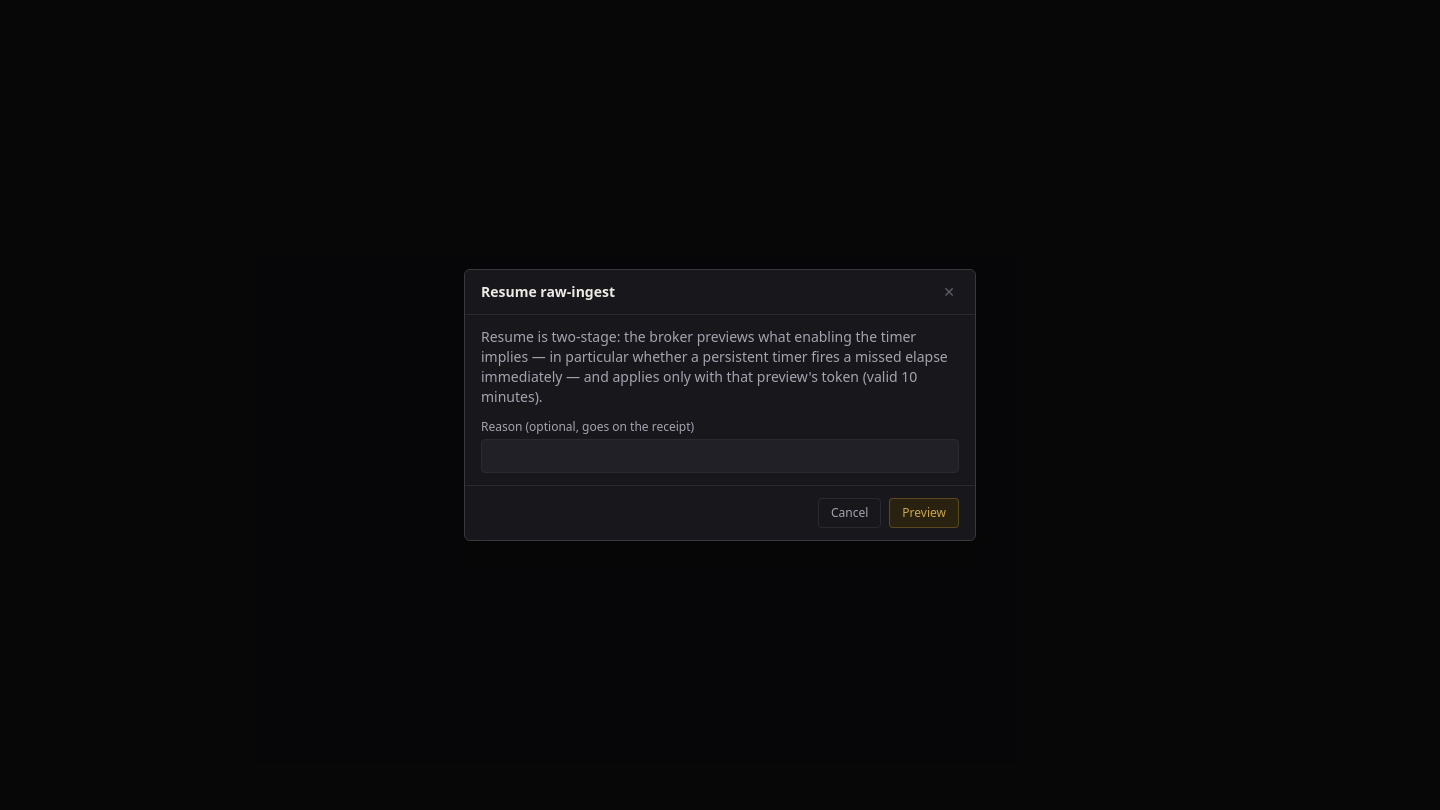
Scenario: ResumeDialog › shows the implication before Apply and applies with the preview token
Expected: the button "apply" is not shown
Click the button "Preview".
click(924, 513)  # box [889,498,959,528]
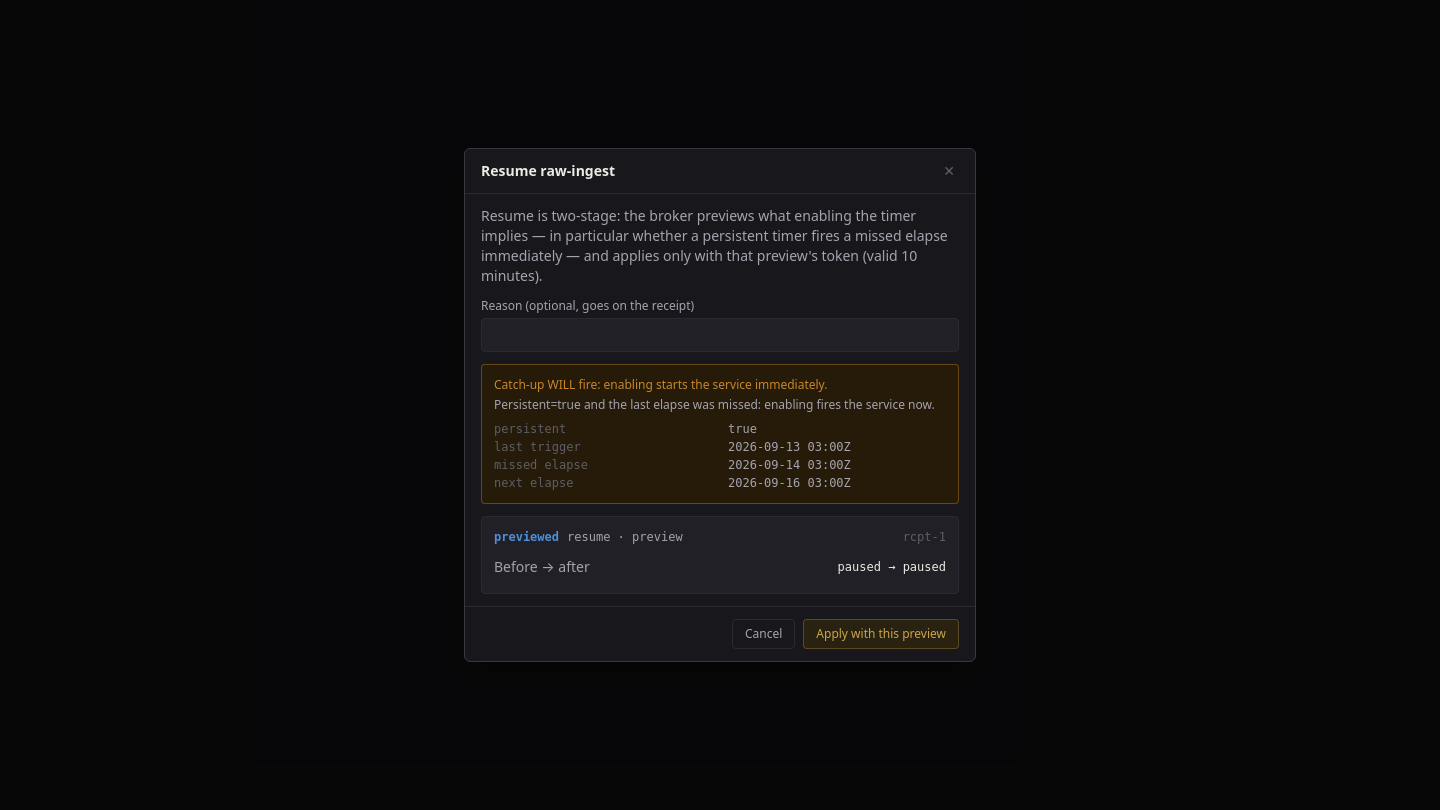
Result: the element with test id "implication" shows "Catch-up WILL fire" at [494,376,828,393]
Result: the element with test id "implication" shows "enabling fires the service now" at [494,396,935,413]
Click the button "Apply with this preview".
click(881, 634)  # box [803,619,959,649]
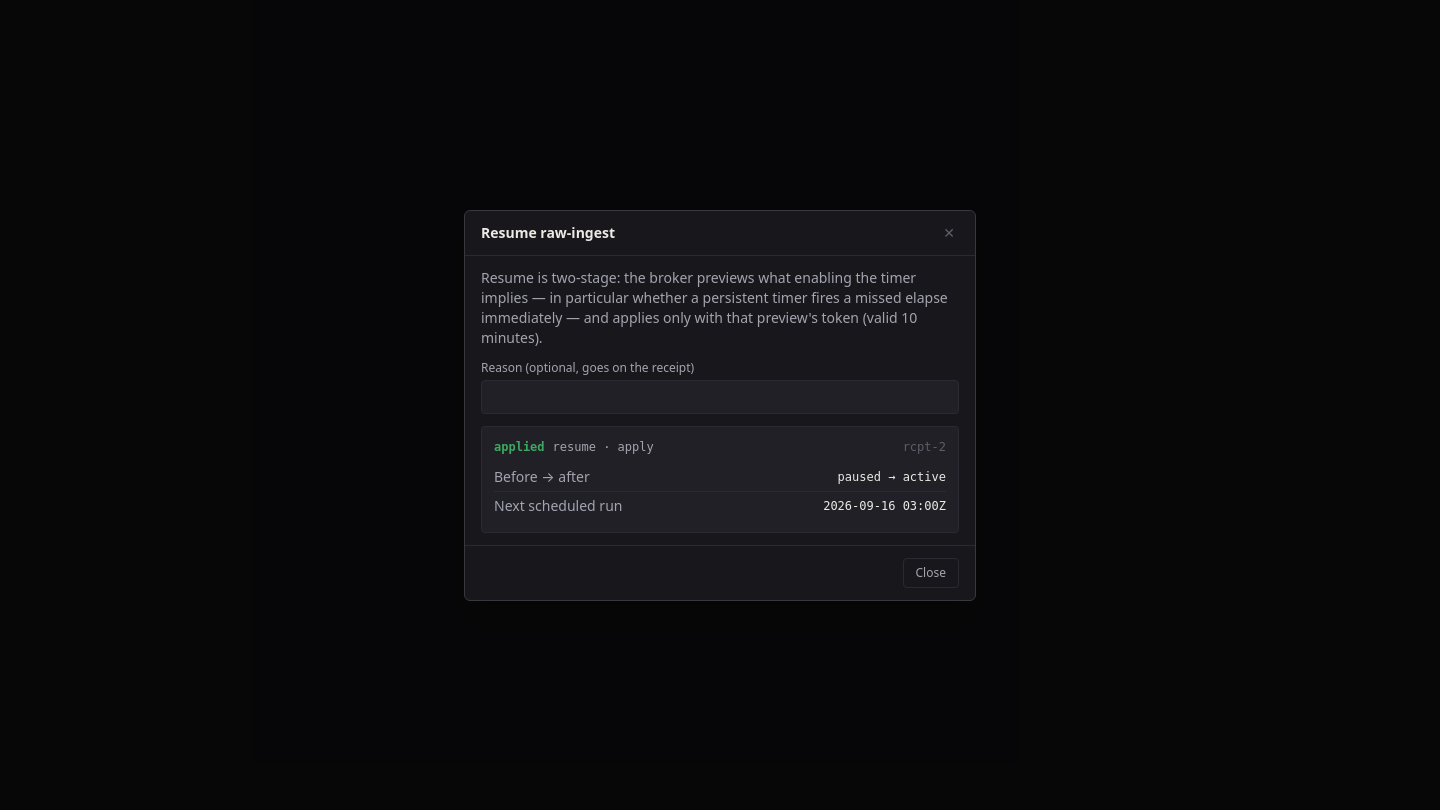
Result: the element with test id "receipt" shows "paused → active" at [481,426,959,532]
